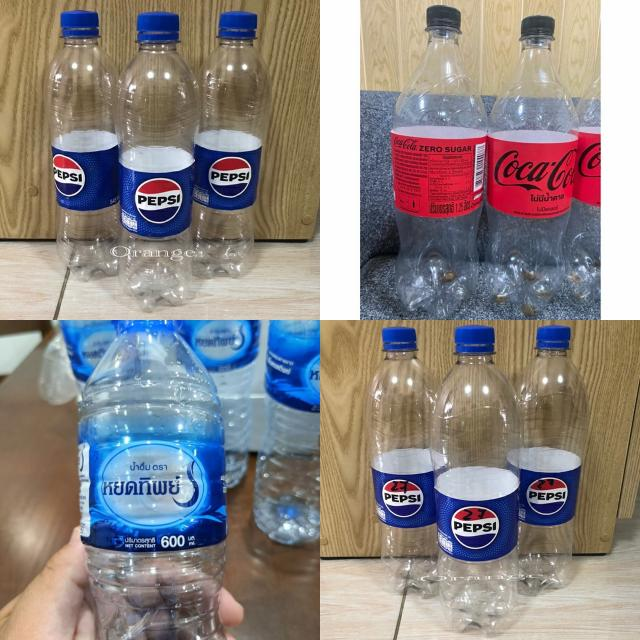plastik: (79, 321, 226, 640), (391, 5, 486, 318), (431, 325, 522, 634), (485, 15, 578, 316), (114, 12, 200, 311), (192, 11, 271, 278), (44, 11, 120, 281), (365, 328, 439, 598), (515, 325, 589, 594), (254, 320, 320, 545), (564, 78, 601, 301)
